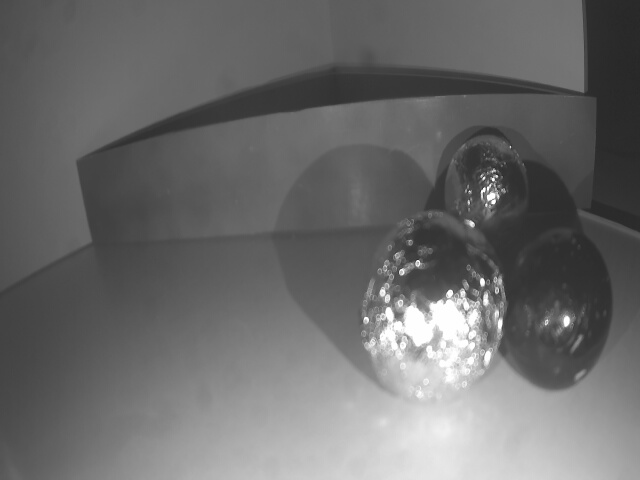Dead: (505, 229, 608, 388)
Green: (78, 95, 598, 248)
Live: (356, 216, 506, 400), (444, 136, 530, 243)
